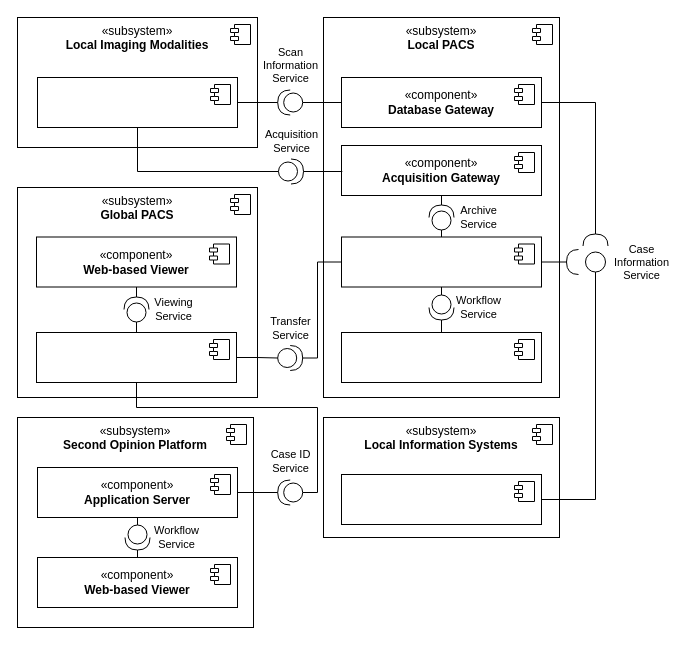
The diagram is 699 pixels wide and 645 high, and some of its shapes have lost their labels. The centre of each missing label's shape, as x and y in pixels:
"«component » Image Scanner" goes at point 137,102.
"«component » LIS Database" goes at point 441,499.
"«component » PACS Server and Archive" goes at point 136,357.
"«component » Server and Archive" goes at point 441,261.
"«component » Workstation" goes at point 441,357.
